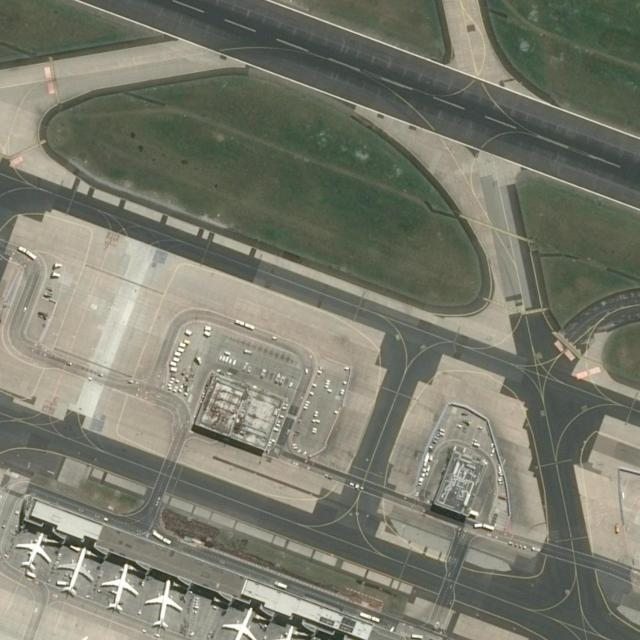Aircraft: (146, 578, 186, 632), (57, 548, 98, 599), (101, 558, 141, 604), (17, 531, 52, 578), (215, 608, 257, 640)
